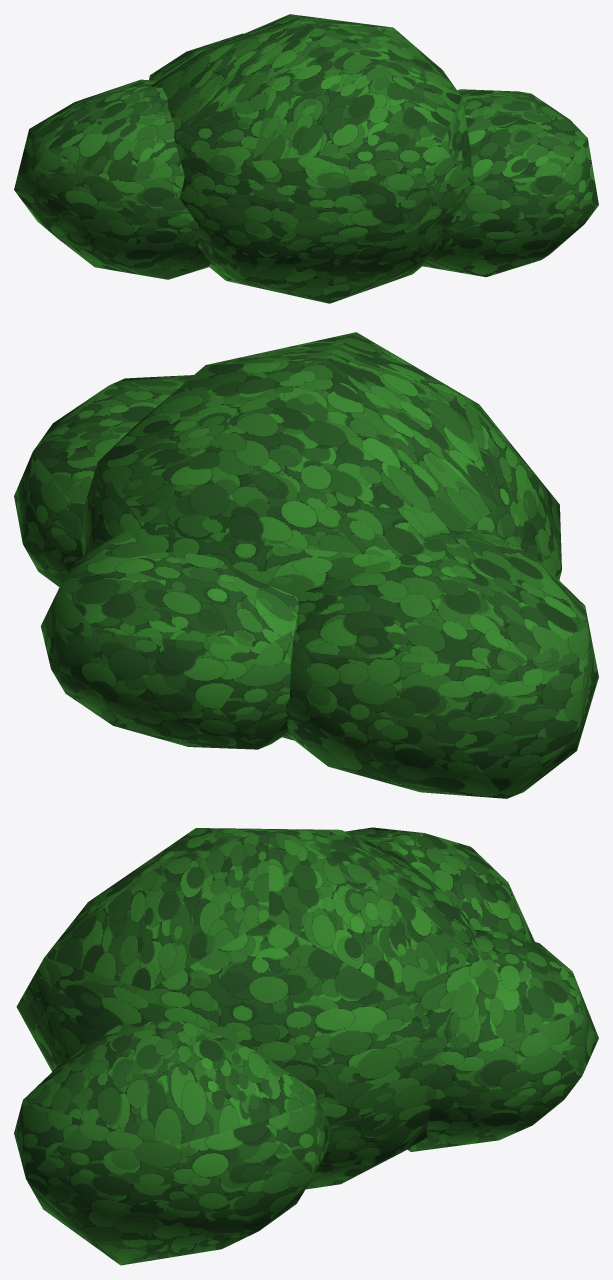
The model's file is Prop_Bush_B.fbx.
3 renders of one model, top to bottom at view 1: azimuth 30°, elevation 25°; view 2: azimuth 150°, elevation 25°; view 3: azimuth 270°, elevation 25°, orthographic. The views are drawn at different scales.
Parts seen in each view (by area): view 1: Bush_B_Mesh; view 2: Bush_B_Mesh; view 3: Bush_B_Mesh.
Boxes of the visible parts, <box> form: Bush_B_Mesh: <box>14,14,598,303</box>; Bush_B_Mesh: <box>14,332,598,798</box>; Bush_B_Mesh: <box>14,827,598,1265</box>.
Bounding box in the file's own units: 1.53 × 0.8152 × 1.24.
Materials: 1 (1 with a texture image).
